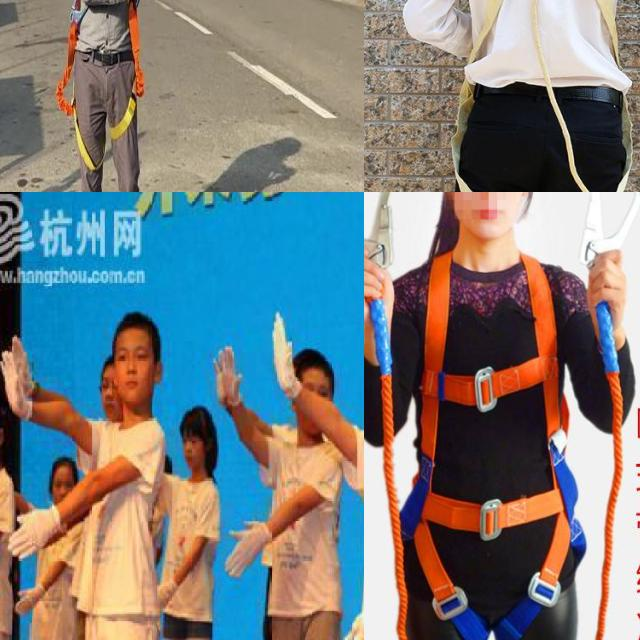Harness: (412, 229, 608, 579), (447, 0, 612, 192), (110, 0, 145, 140), (56, 0, 85, 116), (76, 117, 95, 170)
face_nomask: (113, 336, 160, 406)
hand_glove: (268, 312, 302, 402), (7, 506, 52, 560), (223, 523, 260, 580), (212, 343, 242, 405), (0, 352, 26, 423), (13, 583, 40, 617), (341, 606, 364, 640)
head_nohelmet: (180, 402, 214, 436), (117, 312, 154, 338), (45, 459, 79, 483)
person: (0, 312, 169, 640), (251, 341, 348, 640), (279, 303, 364, 640), (152, 420, 223, 640)
